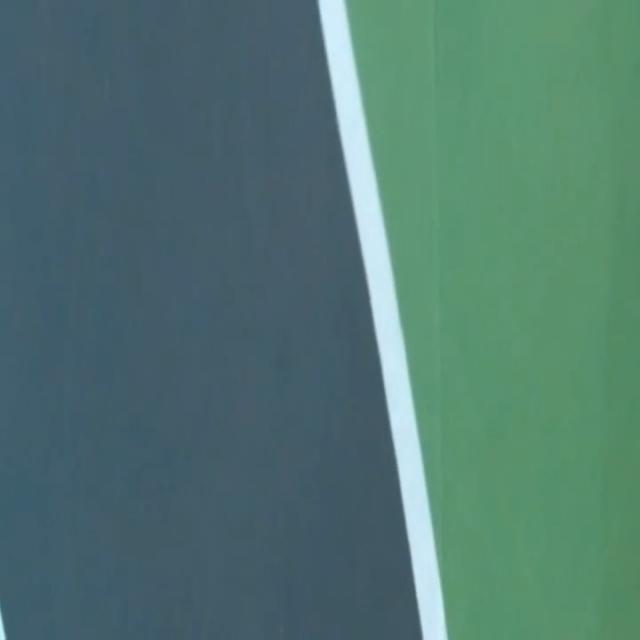center: (0, 608, 6, 639)
right: (317, 0, 447, 639)
